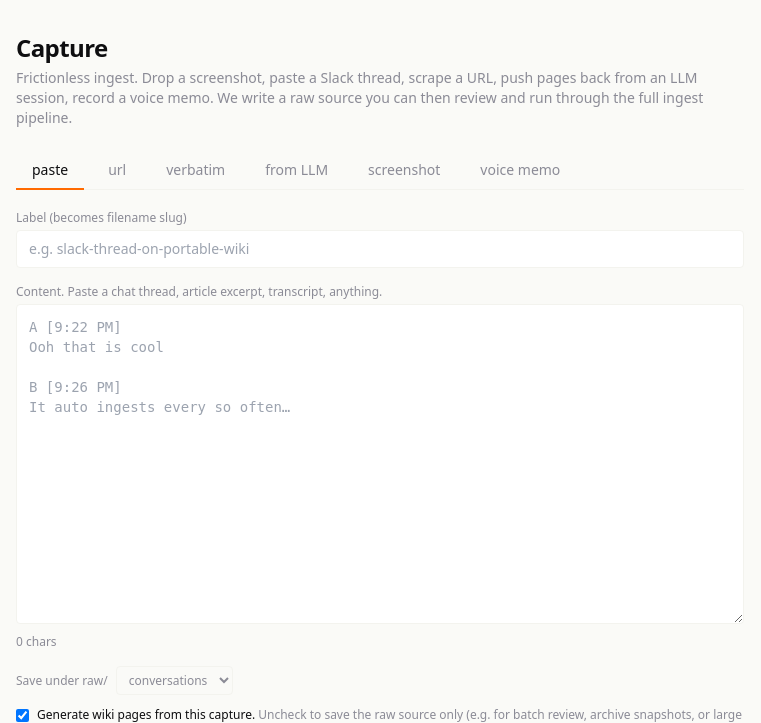
Capture page — verbatim tab › highlights public-tier frontmatter with a warning hint
Click the button "verbatim" at [196, 171], box [150,152,241,190]
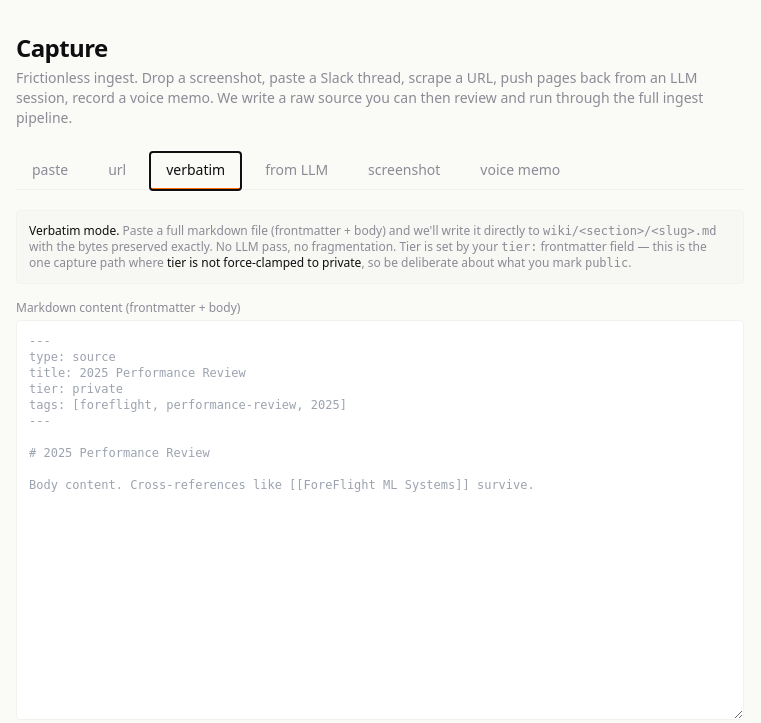
Click the text box with test id "verbatim-content-input" at [380, 520], box [16,320,744,720]
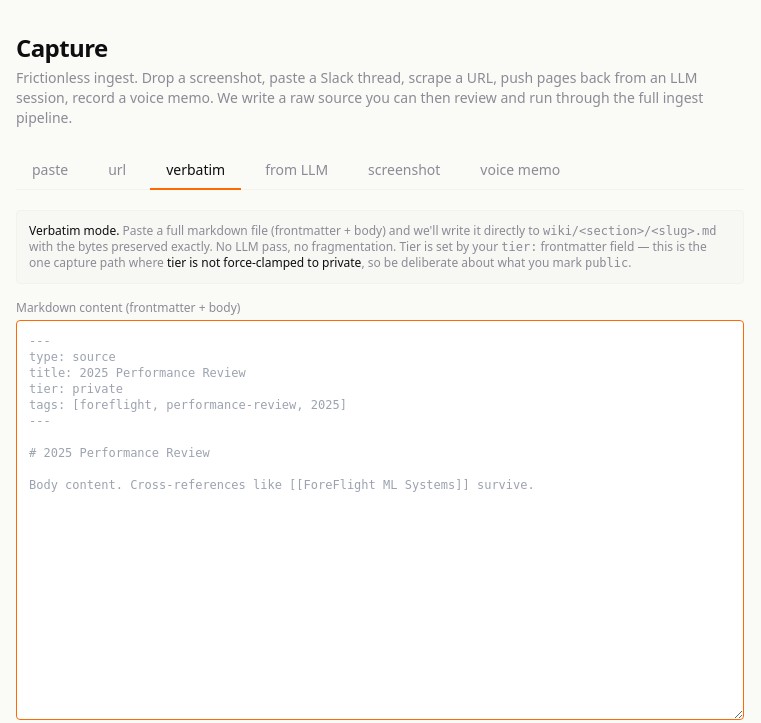
Type keys "--- type: entity title: Public Tier Entity tier: public --- body "
(page scrolled)
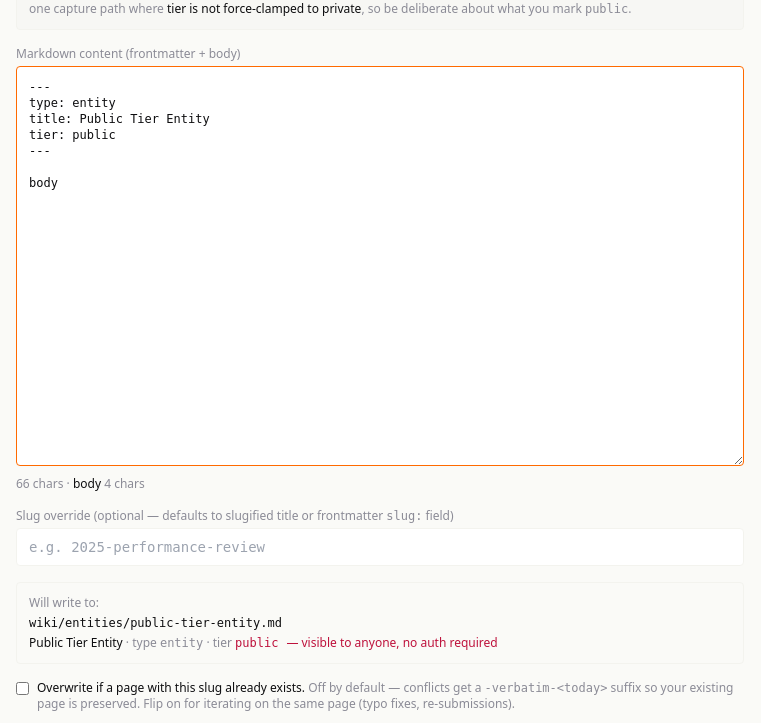
expect the element with test id "verbatim-preview" shows "visible to anyone": met, box [286,634,498,651]
expect the text with test id "verbatim-preview-tier" reads "public": met, box [235,636,278,650]
